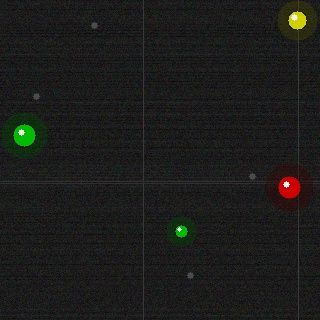green_normal: (11, 122, 37, 148), (173, 223, 189, 239)
red_fault: (276, 174, 302, 200)
yellow_warning: (286, 9, 308, 31)
